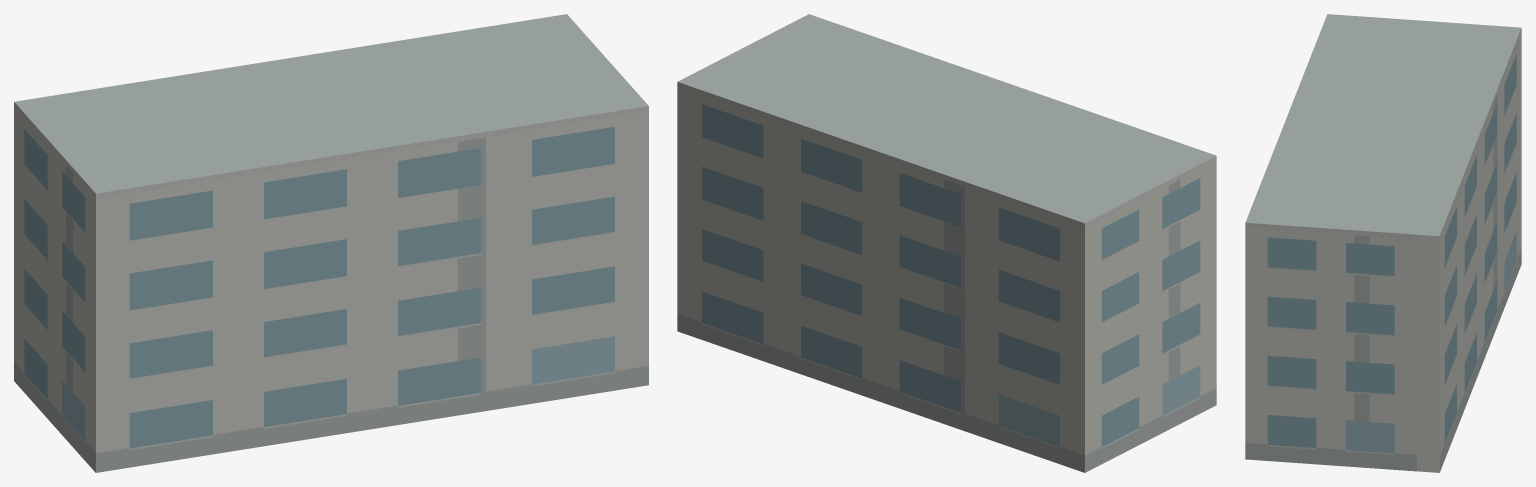
The model's file is residential-98dc06a2-6b0b-49f6-b2a9-2e7ff874256c.glb.
3 renders of one model, left to right at view 1: azimuth 30°, elevation 25°; view 2: azimuth 150°, elevation 25°; view 3: azimuth 270°, elevation 25°, orthographic. The views are drawn at different scales.
Parts seen in each view (by area): view 1: residential-98dc06a2-6b0b-49f6-b2a9-2e7ff874256c.tmp; view 2: residential-98dc06a2-6b0b-49f6-b2a9-2e7ff874256c.tmp; view 3: residential-98dc06a2-6b0b-49f6-b2a9-2e7ff874256c.tmp.
Boxes of the visible parts, x1,y1,x2,y2 form: residential-98dc06a2-6b0b-49f6-b2a9-2e7ff874256c.tmp: (14, 14, 648, 472); residential-98dc06a2-6b0b-49f6-b2a9-2e7ff874256c.tmp: (677, 14, 1216, 472); residential-98dc06a2-6b0b-49f6-b2a9-2e7ff874256c.tmp: (1245, 14, 1521, 472).
Bounding box in the file's own units: 24.57 × 12.2 × 12.91.
